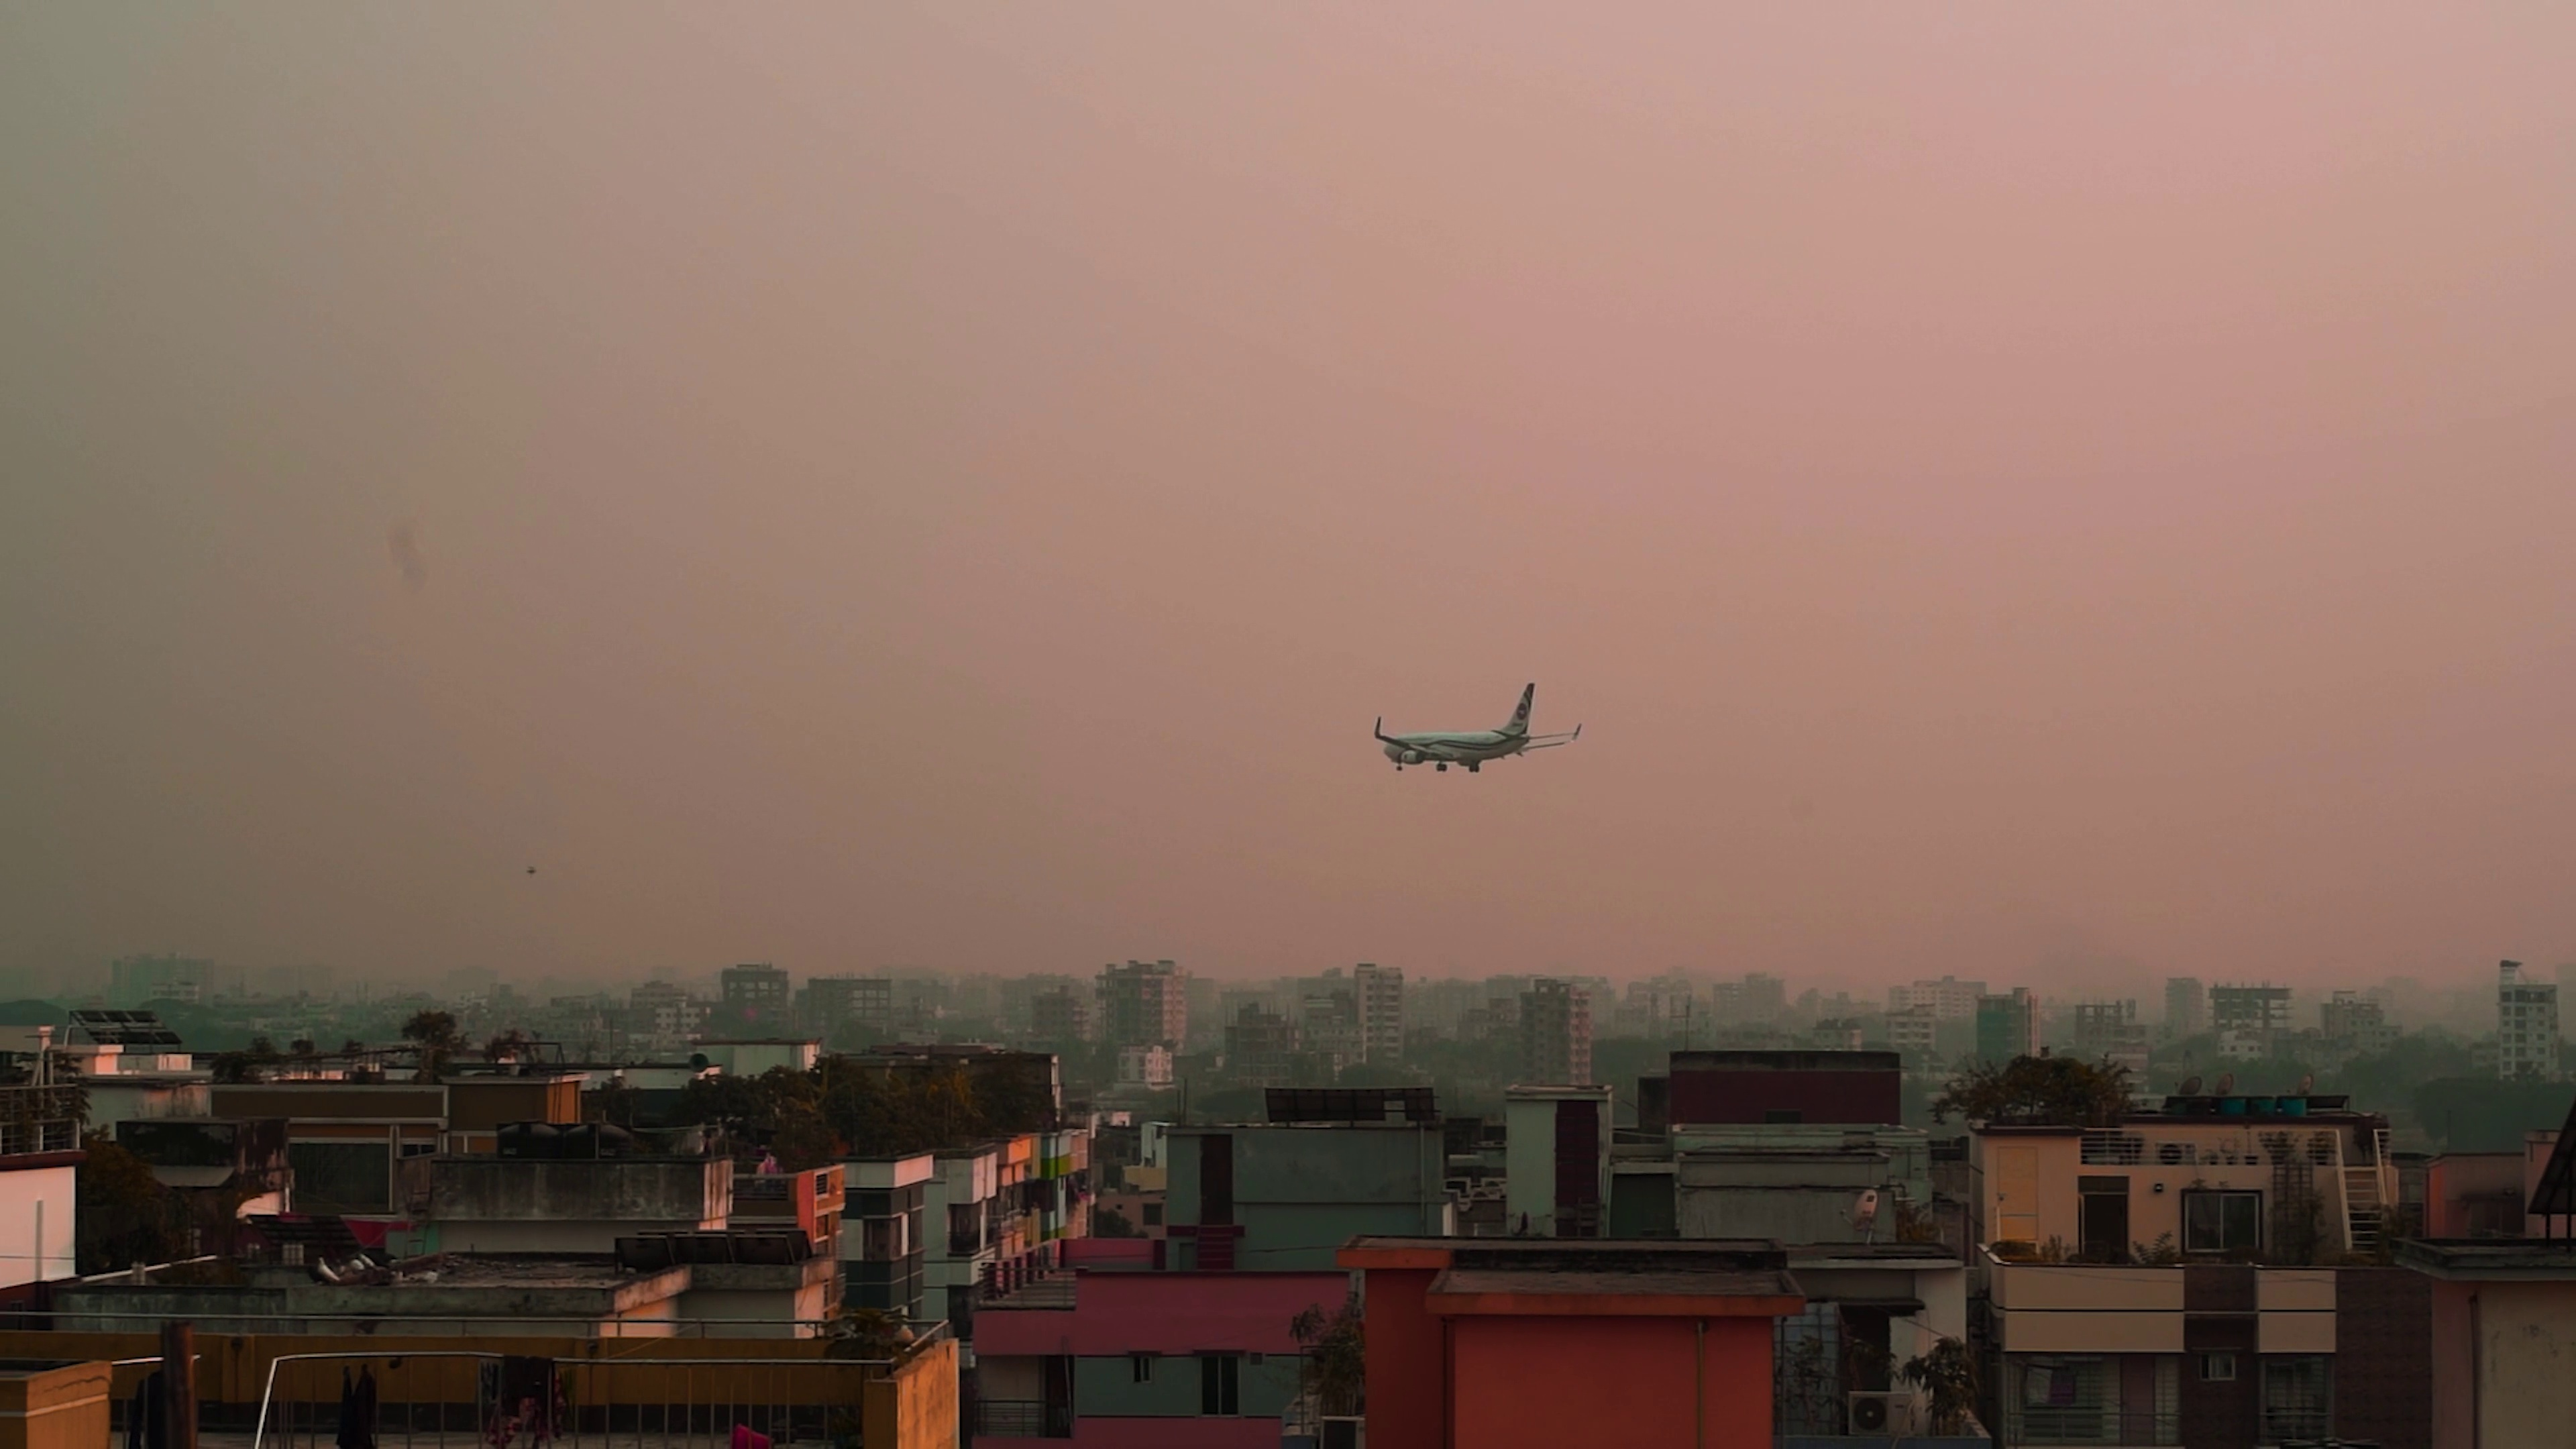plane: (1373, 681, 1583, 771)
